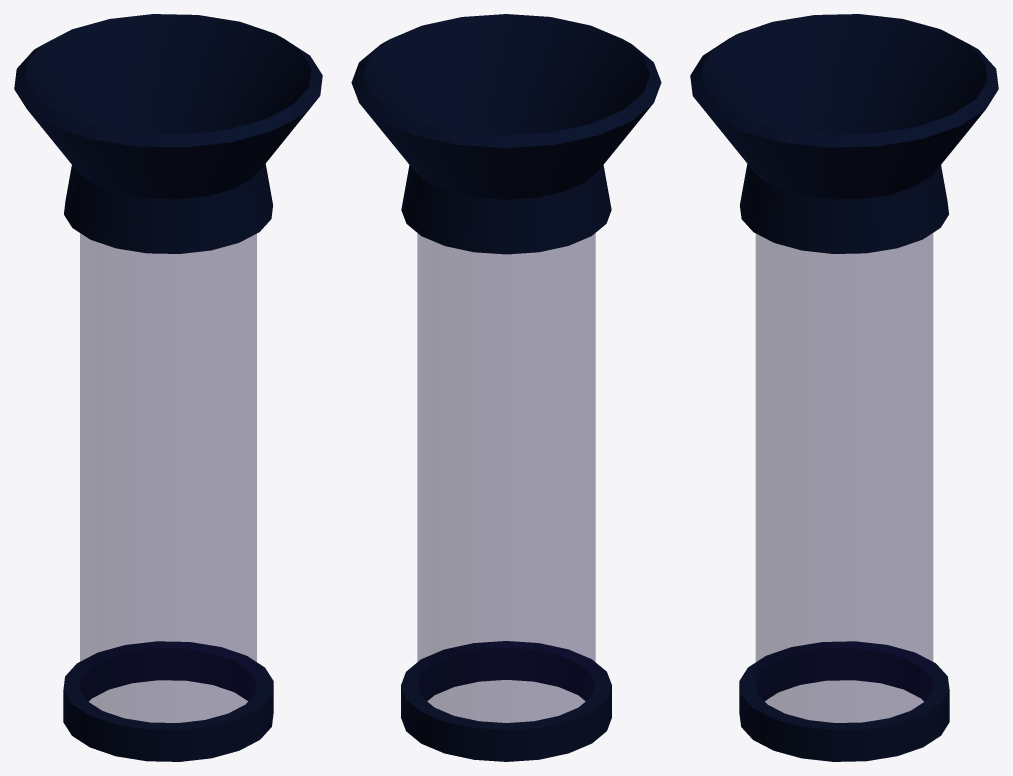
File: suctionTube.glb
The picture shows the model from 3 angles, left to right: view 1: azimuth 30°, elevation 25°; view 2: azimuth 150°, elevation 25°; view 3: azimuth 270°, elevation 25°; orthographic projection.
Parts seen in each view (by area): view 1: suction_tupe pCylinder52, group4_pCylinder54 suction_tupe; view 2: suction_tupe pCylinder52, group4_pCylinder54 suction_tupe; view 3: suction_tupe pCylinder52, group4_pCylinder54 suction_tupe.
Part boxes in pixels (box(x1,y1,x2,y2)): suction_tupe pCylinder52: box(80, 233, 256, 722); group4_pCylinder54 suction_tupe: box(14, 14, 322, 761); suction_tupe pCylinder52: box(417, 233, 595, 722); group4_pCylinder54 suction_tupe: box(351, 14, 661, 761); suction_tupe pCylinder52: box(756, 233, 932, 722); group4_pCylinder54 suction_tupe: box(690, 14, 998, 761).
Bounding box in the file's own units: 0.4386 × 1.01 × 0.4386.
Materials: 2 (2 with a texture image).
